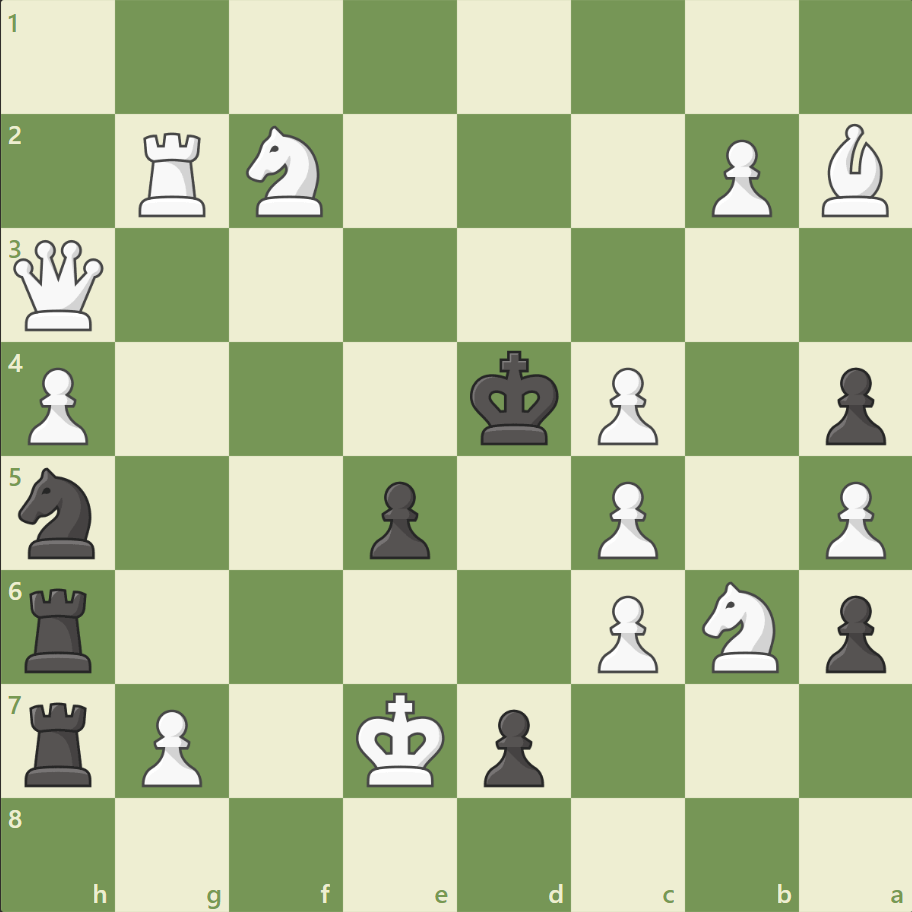B: (812, 120, 896, 222)
K: (351, 685, 451, 793)
N: (692, 575, 789, 677), (238, 121, 335, 223)
P: (133, 700, 208, 791), (20, 359, 95, 450), (701, 132, 776, 223), (588, 586, 662, 677), (815, 473, 889, 564), (588, 473, 662, 564), (588, 359, 662, 450)
Q: (10, 236, 109, 335)
R: (133, 125, 215, 222)
k: (465, 344, 565, 452)
n: (11, 461, 108, 564)
p: (474, 700, 549, 791), (815, 586, 889, 677), (361, 473, 435, 564), (815, 359, 889, 450)
r: (19, 693, 102, 790), (19, 579, 102, 676)
